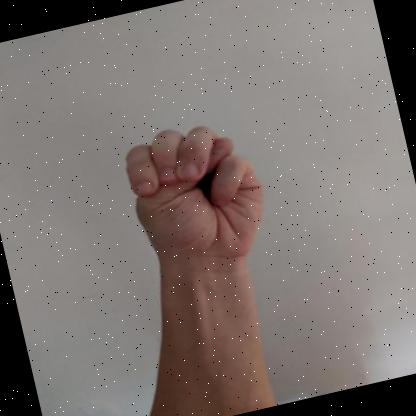M: (126, 125, 264, 279)
